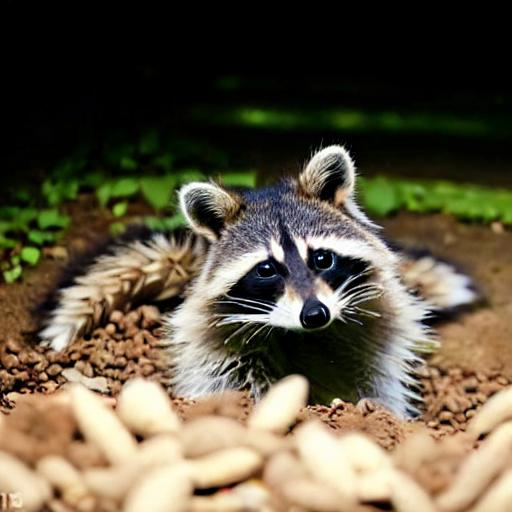raccoon: (162, 135, 452, 414)
